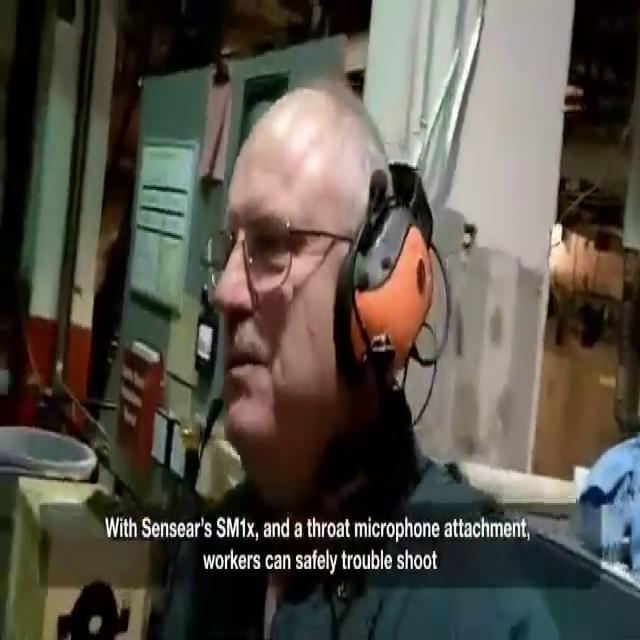earmuff: (333, 183, 437, 398)
glasses: (200, 218, 352, 300)
